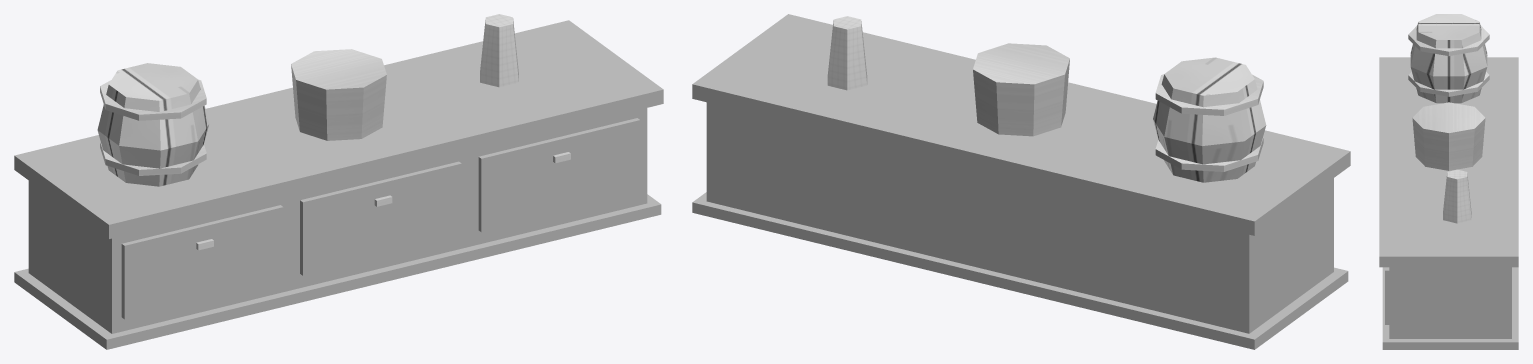
File: bench_brewery.obj
3 renders of one model, left to right at view 1: azimuth 30°, elevation 25°; view 2: azimuth 150°, elevation 25°; view 3: azimuth 270°, elevation 25°, orthographic. The views are drawn at different scales.
Parts seen in each view (by area): view 1: bench_brewery; view 2: bench_brewery; view 3: bench_brewery.
Part boxes in pixels (x1,y1,x2,y2): bench_brewery: (14, 14, 663, 349); bench_brewery: (692, 14, 1350, 349); bench_brewery: (1379, 14, 1518, 349).
Bounding box in the file's own units: 2.84 × 1.04 × 0.84.
